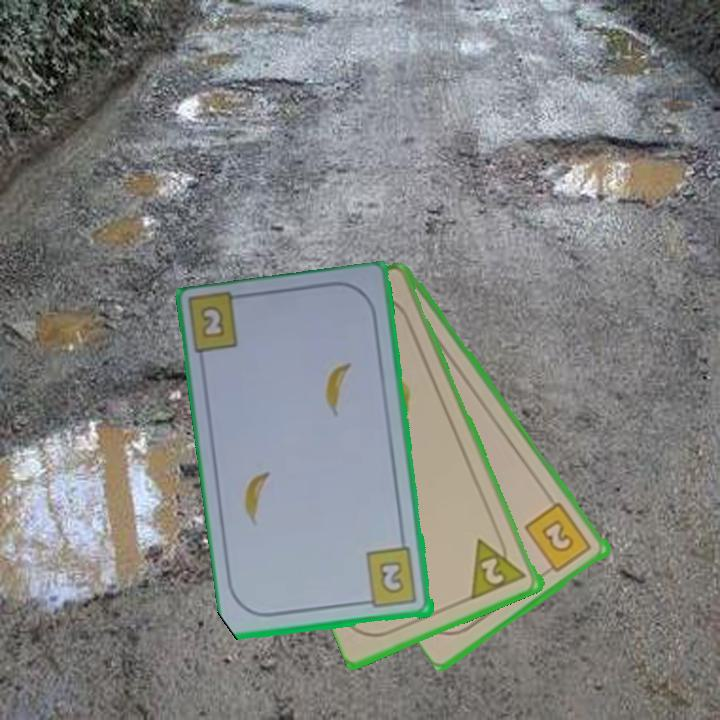2b: (521, 499, 595, 578), (359, 545, 420, 611), (197, 302, 228, 342)
2p: (468, 528, 530, 602)
